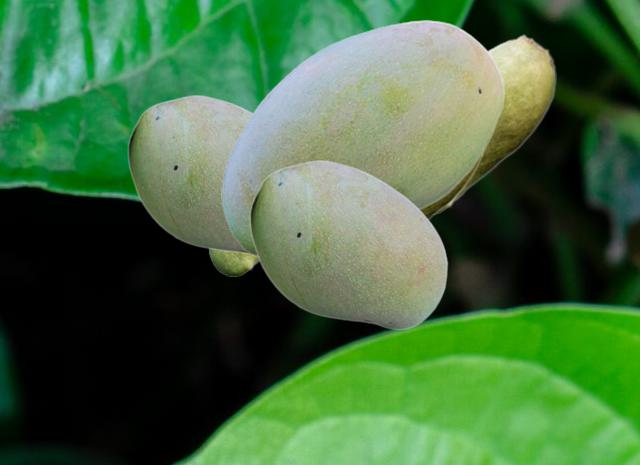green_mango: (221, 20, 504, 255), (249, 159, 447, 329), (127, 94, 256, 257), (439, 34, 555, 213), (422, 153, 484, 219), (207, 250, 258, 275)
